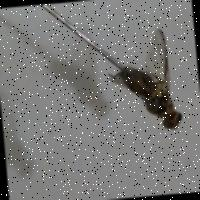Oriental-fruit-fly: (98, 24, 187, 138)
